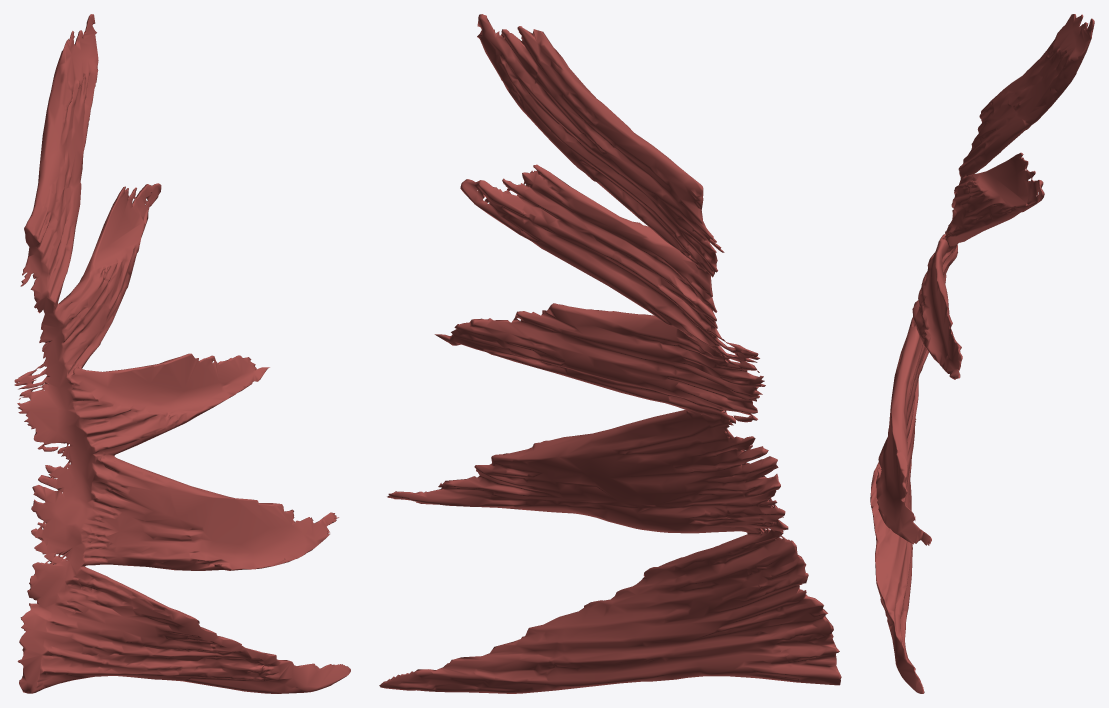
Rendered from FMA9762.glb.
3 renders of one model, left to right at view 1: azimuth 30°, elevation 25°; view 2: azimuth 150°, elevation 25°; view 3: azimuth 270°, elevation 25°, orthographic. The views are drawn at different scales.
Visible parts, largest first — view 1: FMA9762; view 2: FMA9762; view 3: FMA9762.
Part boxes in pixels (x1,y1,x2,y2): FMA9762: (14, 14, 350, 693); FMA9762: (379, 14, 841, 693); FMA9762: (870, 14, 1094, 693).
Size of the model in its own units: 0.0825 by 0.1444 by 0.0491.
